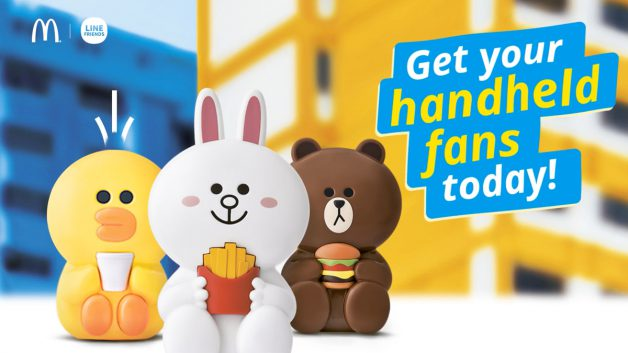line_brown: (272, 136, 418, 261)
